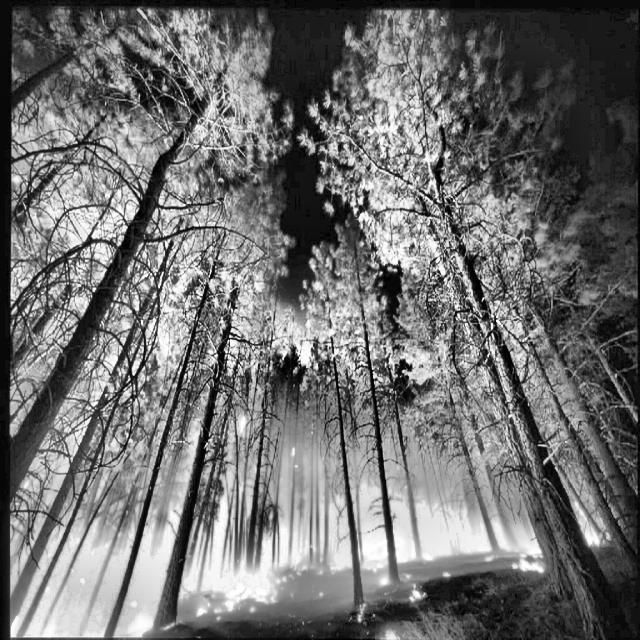fire: (8, 238, 602, 640)
